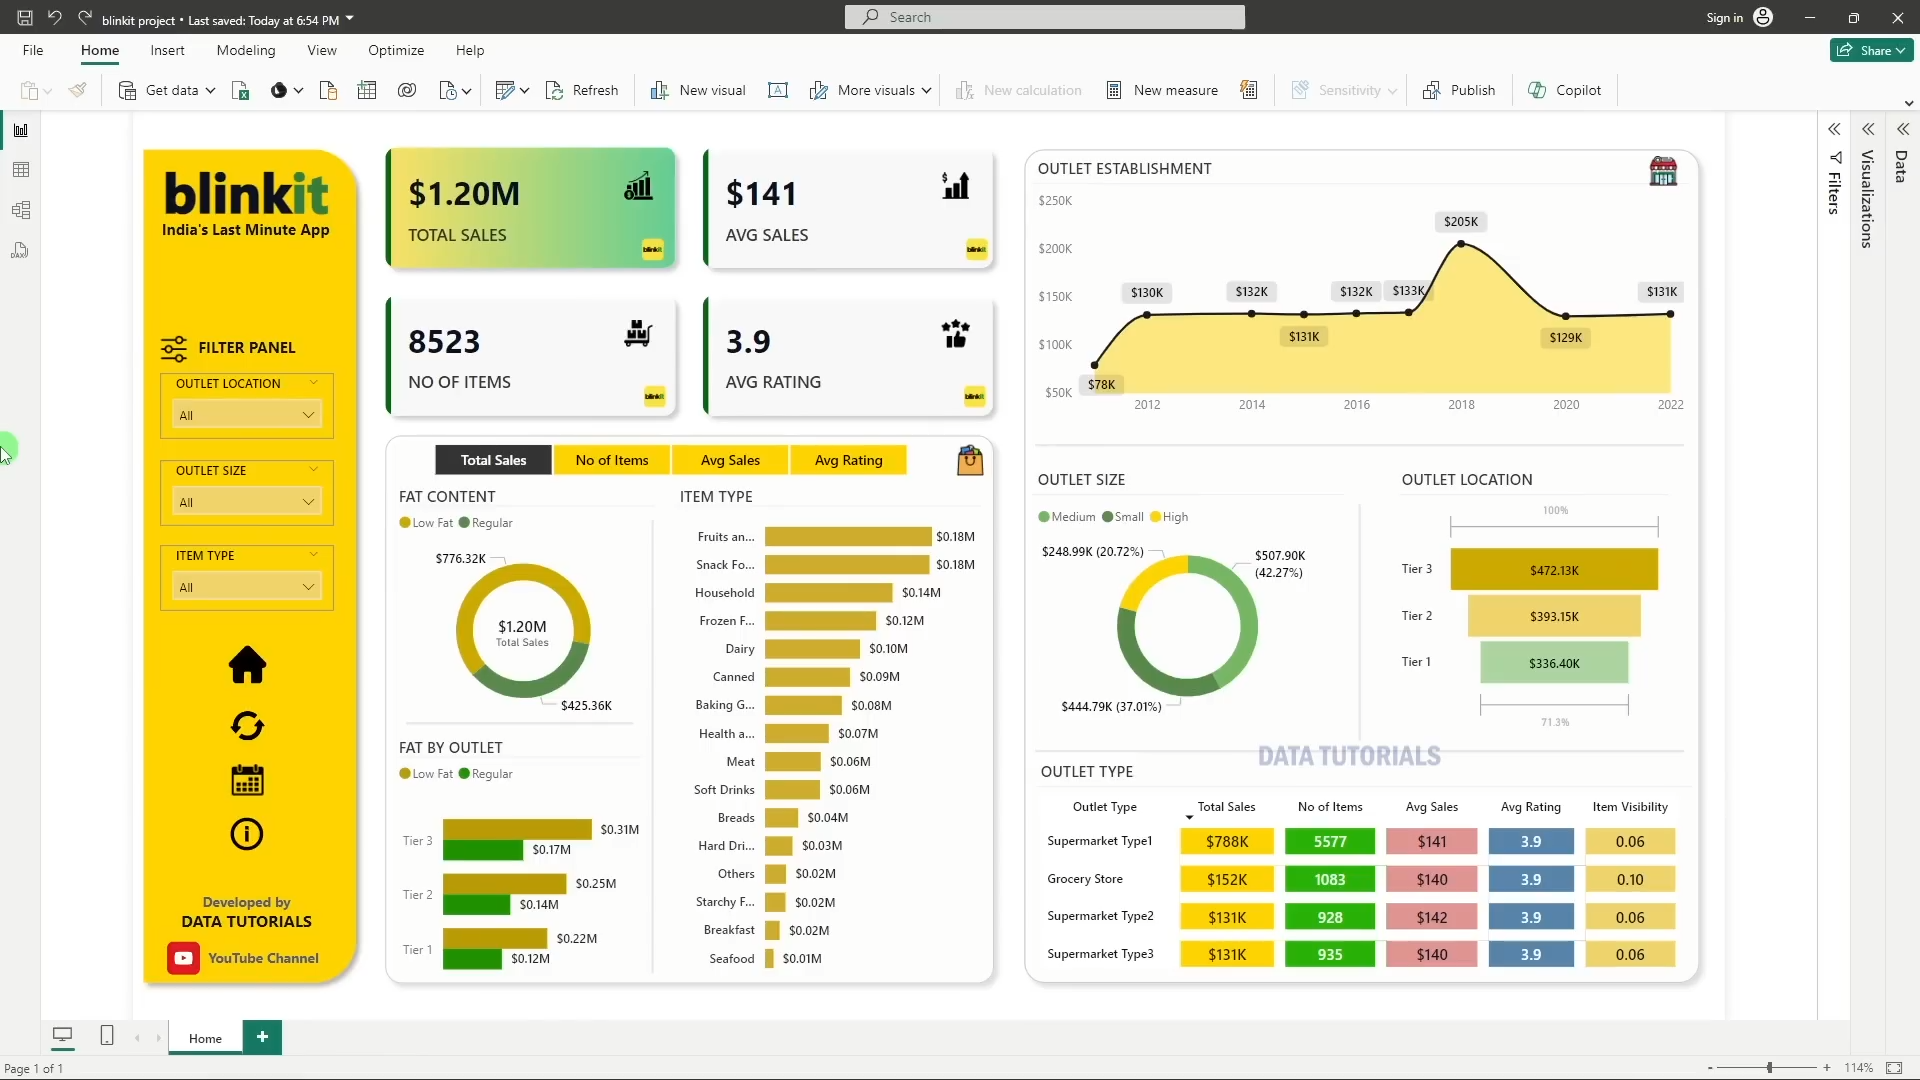

Layout of this report page (visuals, bound fields, positions):
{"tool":"powerbi","page":{"name":"Page 1","canvas":[1400,800],"ordinal":0},"visuals":[{"type":"shape","box":[0,26.1,205,750],"z":0},{"type":"textbox","box":[20.3,40.6,168.2,75.4],"z":1000},{"type":"textbox","box":[252.5,26,205,750],"z":2000},{"type":"textbox","box":[17.4,100.1,169.7,31.9],"z":3000},{"type":"cardVisual","fields":{"Data":["BlinkIT Grocery Data.Total Sales","BlinkIT Grocery Data.Avg Sales","BlinkIT Grocery Data.No Of Items","BlinkIT Grocery Data.Avg Rating"]},"box":[205,15,570,270],"z":4000},{"type":"shape","box":[217.1,252.9,547.1,522.9],"z":5000},{"type":"donutChart","title":"FAT CONTENT","fields":{"Y":["Sum(BlinkIT Grocery Data.Sales)"],"Category":["BlinkIT Grocery Data.Item Fat Content"]},"box":[231.4,307.1,227.1,208.6],"z":5001},{"type":"slicer","fields":{"Values":["Metrics.Metrics"]},"box":[231.4,265.7,482.9,41.4],"z":5002},{"type":"cardVisual","fields":{"Data":["BlinkIT Grocery Data.Total Sales"]},"box":[281.4,397.4,128.6,92.9],"z":5003},{"type":"clusteredBarChart","title":"FAT BY OUTLET","fields":{"Category":["BlinkIT Grocery Data.Outlet Location Type"],"Y":["BlinkIT Grocery Data.Avg Sales"],"Series":["BlinkIT Grocery Data.Item Fat Content"]},"box":[231.4,527.1,227.1,230],"z":5004},{"type":"shape","box":[472.9,307.1,17.1,450],"z":5005},{"type":"barChart","title":"ITEM TYPE","fields":{"Category":["BlinkIT Grocery Data.Item Type"],"Y":["BlinkIT Grocery Data.Avg Sales"]},"box":[481.4,307.1,264.3,450],"z":5006},{"type":"shape","box":[764.3,27.1,635.7,750],"z":5007},{"type":"lineChart","fields":{"Y":["BlinkIT Grocery Data.Total Sales"],"Category":["BlinkIT Grocery Data.Outlet Establishment Year"]},"box":[785.7,40,597.1,235.7],"z":5008},{"type":"shape","box":[775.7,515.7,607.1,11.4],"z":5009},{"type":"donutChart","title":"OUTLET SIZE","fields":{"Y":["Sum(BlinkIT Grocery Data.Sales)"],"Category":["BlinkIT Grocery Data.Outlet Size"]},"box":[775.7,285.7,278.6,235.7],"z":5011},{"type":"funnel","title":"OUTLET LOCATION","fields":{"Y":["Sum(BlinkIT Grocery Data.Sales)"],"Category":["BlinkIT Grocery Data.Outlet Location Type"]},"box":[1068.6,287.1,311.4,228.6],"z":5012},{"type":"shape","box":[785.7,274.3,607.1,11.4],"z":5013},{"type":"pivotTable","title":"OUTLET TYPE","fields":{"Rows":["BlinkIT Grocery Data.Outlet Type"],"Values":["BlinkIT Grocery Data.Total Sales","BlinkIT Grocery Data.No Of Items","BlinkIT Grocery Data.Avg Sales","BlinkIT Grocery Data.Avg Rating","Sum(BlinkIT Grocery Data.Item Visibility)"]},"box":[775.7,521.4,607.1,235.7],"z":5014},{"type":"slicer","fields":{"Values":["BlinkIT Grocery Data.Outlet Location Type"]},"box":[15.7,235.7,171.4,78.6],"z":5015},{"type":"slicer","fields":{"Values":["BlinkIT Grocery Data.Outlet Size"]},"box":[15.7,324.3,171.4,78.6],"z":5016},{"type":"slicer","fields":{"Values":["BlinkIT Grocery Data.Item Type"]},"box":[15.7,411.4,171.4,78.6],"z":5017}]}

Visuals, with their boxes on the page's 1400x800 design canvas (x1, y1, x2, y2). These are canvas units, not pixel positions in the 1920x1080 screenshot, which may show the page scaled, cropped or inside an application window:
shape: 0:26:205:776
textbox: 20:41:188:116
textbox: 252:26:458:776
textbox: 17:100:187:132
cardVisual - BlinkIT Grocery Data.Total Sales x BlinkIT Grocery Data.Avg Sales: 205:15:775:285
shape: 217:253:764:776
"FAT CONTENT" donutChart: 231:307:458:516
slicer - Metrics.Metrics: 231:266:714:307
cardVisual - BlinkIT Grocery Data.Total Sales: 281:397:410:490
"FAT BY OUTLET" clusteredBarChart: 231:527:458:757
shape: 473:307:490:757
"ITEM TYPE" barChart: 481:307:746:757
shape: 764:27:1400:777
lineChart - BlinkIT Grocery Data.Total Sales x BlinkIT Grocery Data.Outlet Establishment Year: 786:40:1383:276
shape: 776:516:1383:527
"OUTLET SIZE" donutChart: 776:286:1054:521
"OUTLET LOCATION" funnel: 1069:287:1380:516
shape: 786:274:1393:286
"OUTLET TYPE" pivotTable: 776:521:1383:757
slicer - BlinkIT Grocery Data.Outlet Location Type: 16:236:187:314
slicer - BlinkIT Grocery Data.Outlet Size: 16:324:187:403
slicer - BlinkIT Grocery Data.Item Type: 16:411:187:490
